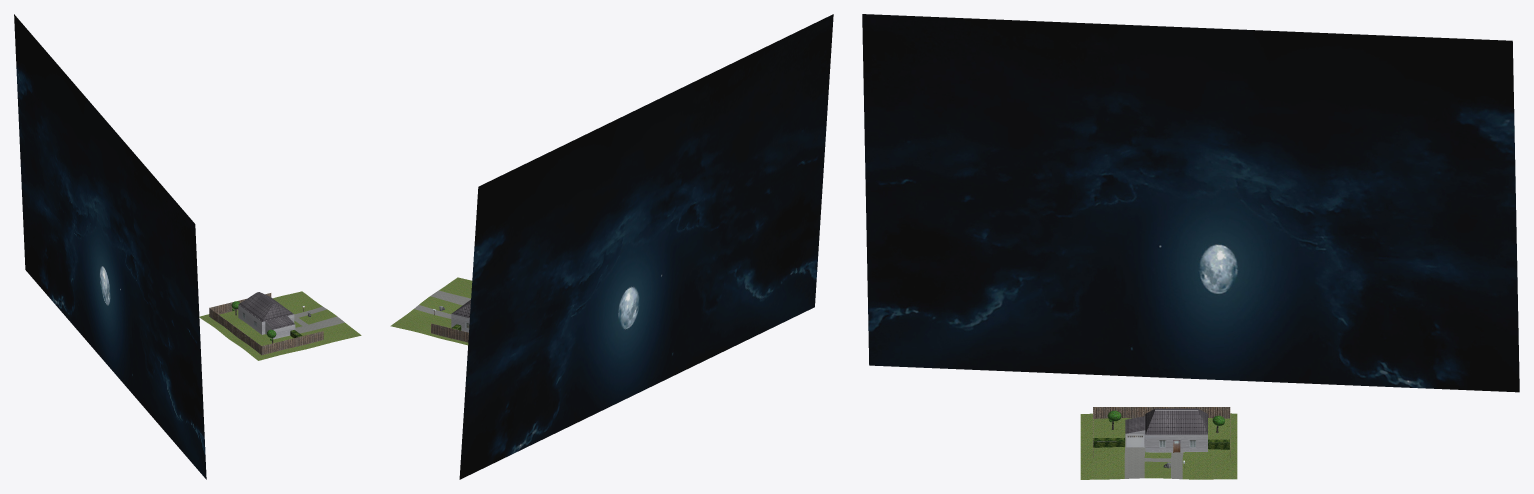
3 renders of one model, left to right at view 1: azimuth 30°, elevation 25°; view 2: azimuth 150°, elevation 25°; view 3: azimuth 270°, elevation 25°, orthographic. The views are drawn at different scales.
Visible parts, largest first — view 1: b16b0846-8263-43c0-9e92-b34ab370bcaf_scaled_27, Plane_0, Cube_1, Plane.002_12, Plane.001_11, Cube.001_2; view 2: b16b0846-8263-43c0-9e92-b34ab370bcaf_scaled_27, Plane_0; view 3: b16b0846-8263-43c0-9e92-b34ab370bcaf_scaled_27, Plane_0, Cube_1, Plane.001_11.
Part boxes in pixels (left/top/right/bottom): b16b0846-8263-43c0-9e92-b34ab370bcaf_scaled_27: left=14, top=14, right=206, bottom=479; Plane_0: left=199, top=291, right=361, bottom=360; Cube_1: left=238, top=292, right=294, bottom=334; Plane.002_12: left=261, top=331, right=323, bottom=355; Plane.001_11: left=209, top=308, right=261, bottom=354; Cube.001_2: left=265, top=316, right=295, bottom=339; b16b0846-8263-43c0-9e92-b34ab370bcaf_scaled_27: left=459, top=14, right=833, bottom=479; Plane_0: left=390, top=277, right=472, bottom=345; b16b0846-8263-43c0-9e92-b34ab370bcaf_scaled_27: left=862, top=14, right=1519, bottom=392; Plane_0: left=1080, top=413, right=1237, bottom=479; Cube_1: left=1145, top=408, right=1207, bottom=452; Plane.001_11: left=1093, top=407, right=1229, bottom=418.
Bounding box in the file's own units: 37.28 × 38.99 × 64.79.
Materials: 5 (5 with a texture image).
